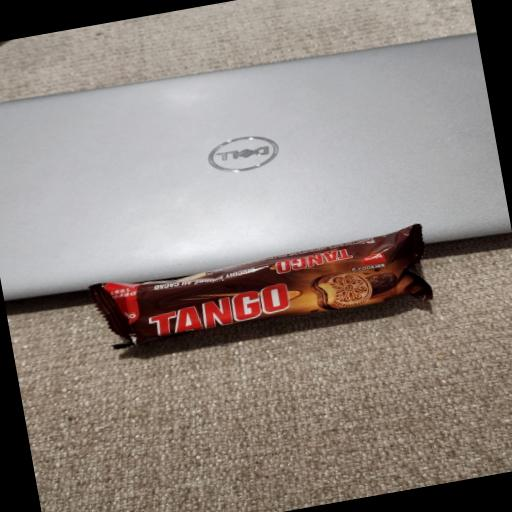tango: (51, 181, 493, 438)
